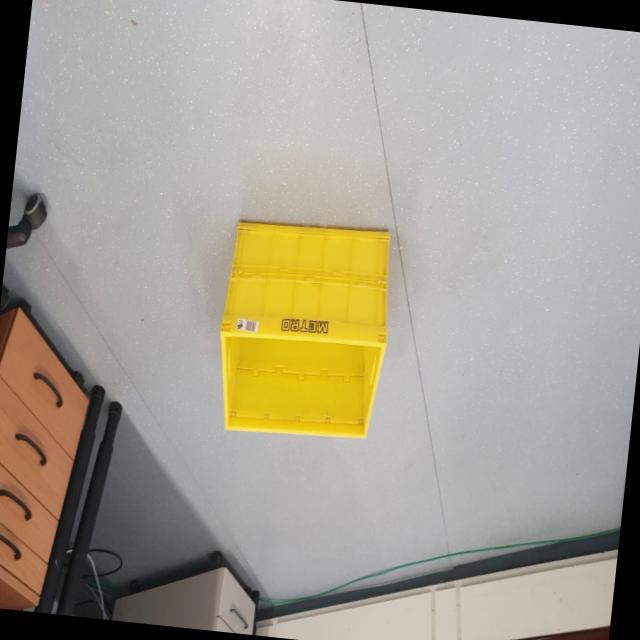box: (203, 185, 406, 460)
